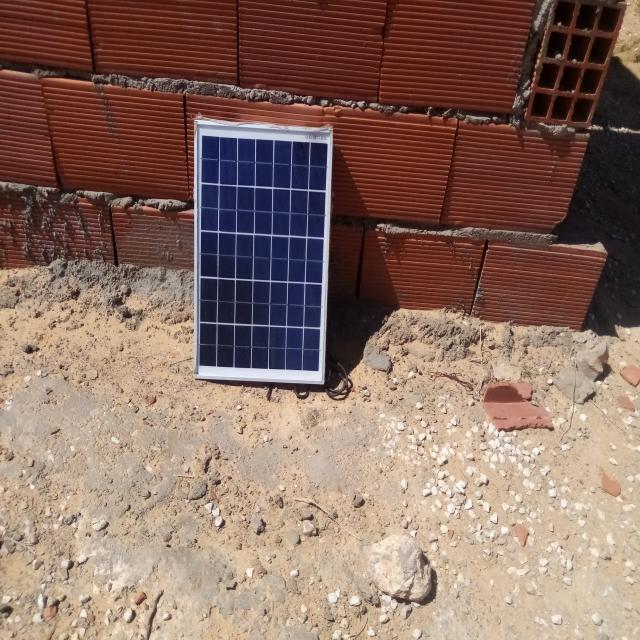no faulty: (195, 122, 332, 383)
